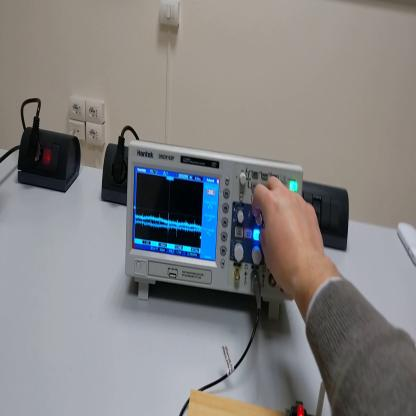hand: (254, 176, 327, 298)
low voltage board: (286, 379, 326, 415)
oscilloscope: (126, 143, 304, 325)
socket: (18, 123, 81, 193), (103, 143, 129, 206)
working area: (186, 393, 285, 416)
